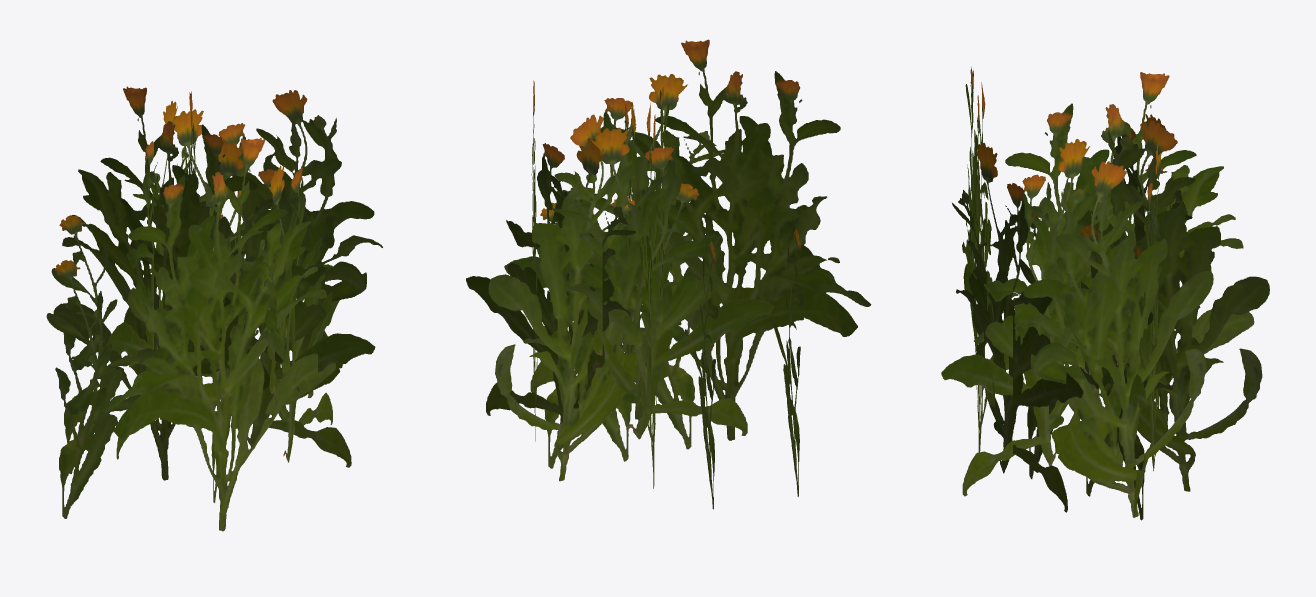
File: flowers_marigold_small.fbx
3 views of the same model, side by side, from view 1: azimuth 30°, elevation 25°; view 2: azimuth 150°, elevation 25°; view 3: azimuth 270°, elevation 25° (orthographic). The views are drawn at different scales.
Parts seen in each view (by area): view 1: Plane_001; view 2: Plane_001; view 3: Plane_001.
Boxes of the visible parts, <box> form: Plane_001: <box>46,86,382,531</box>; Plane_001: <box>466,39,871,509</box>; Plane_001: <box>941,67,1269,520</box>.
Size of the model in its own units: 92.84 by 109 by 83.12.
